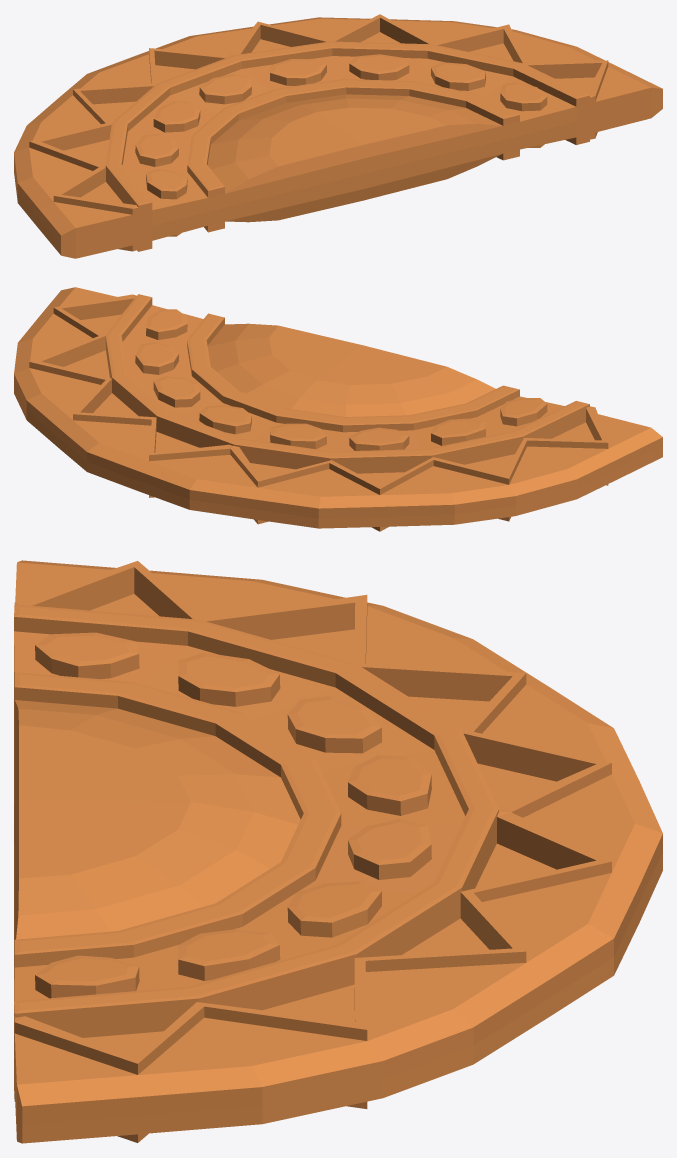
Rendered from Inca_Mod.fbx.
3 renders of one model, top to bottom at view 1: azimuth 30°, elevation 25°; view 2: azimuth 150°, elevation 25°; view 3: azimuth 270°, elevation 25°, orthographic. The views are drawn at different scales.
Visible parts, largest first — view 1: Cylinder; view 2: Cylinder; view 3: Cylinder.
Part boxes in pixels (x1,y1,x2,y2): Cylinder: (14, 14, 662, 258); Cylinder: (14, 287, 662, 531); Cylinder: (14, 560, 662, 1143).
Bounding box in the file's own units: 840 × 74.31 × 422.
